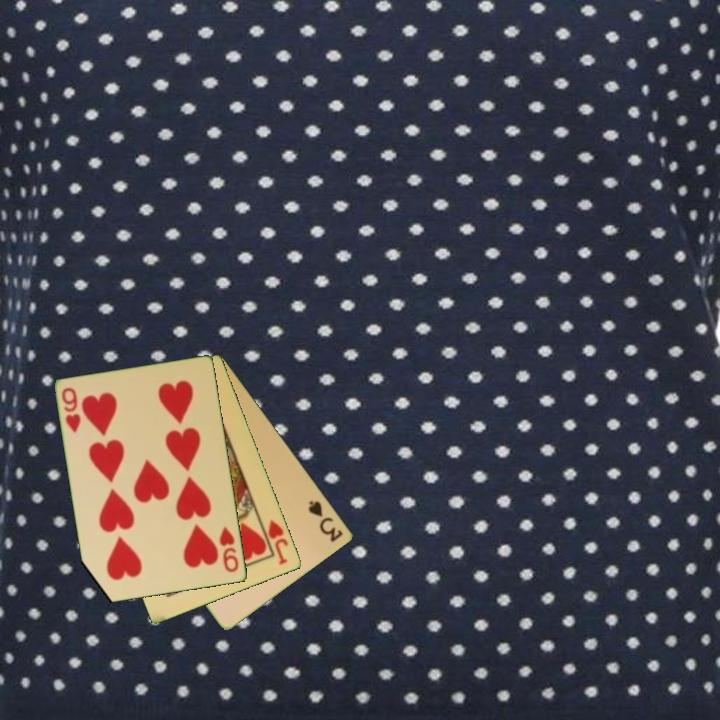3s: (305, 497, 346, 545)
9h: (216, 523, 242, 575), (58, 384, 84, 435)
Jh: (265, 516, 292, 568)
